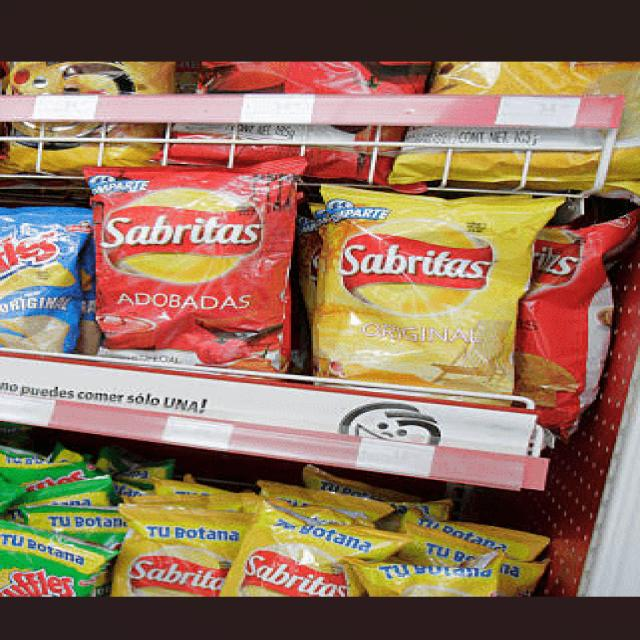sabritasOriginal: (312, 188, 522, 402), (118, 497, 239, 593), (254, 495, 368, 592)
